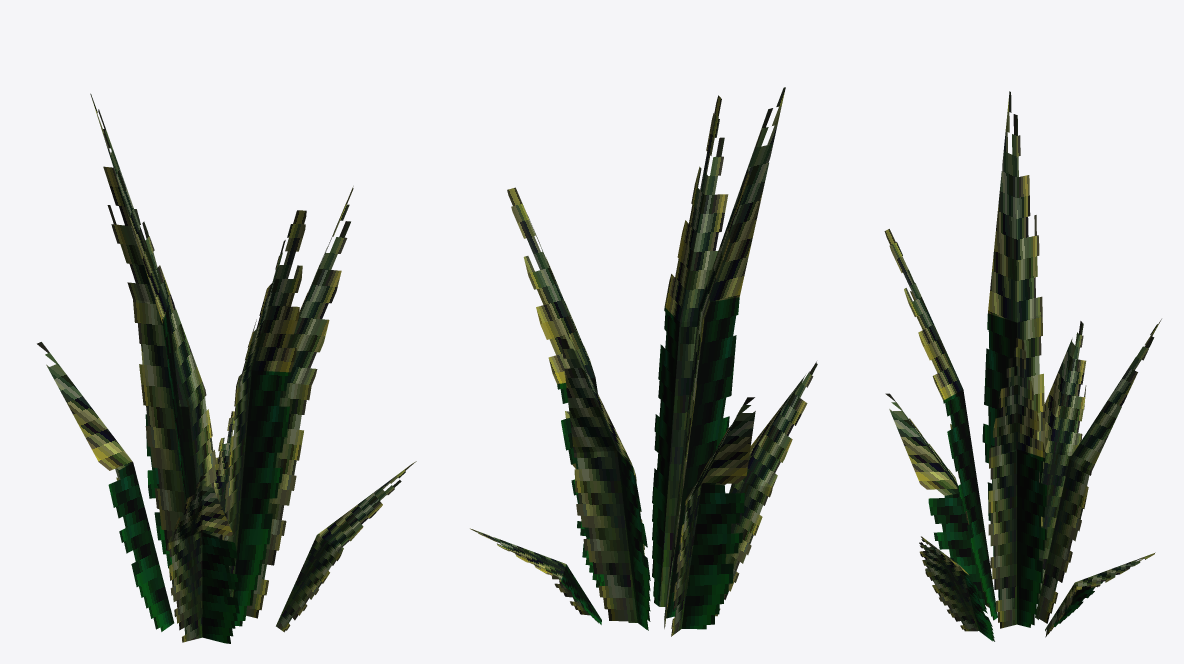
File: bush.glb
3 renders of one model, left to right at view 1: azimuth 30°, elevation 25°; view 2: azimuth 150°, elevation 25°; view 3: azimuth 270°, elevation 25°, orthographic. The views are drawn at different scales.
Parts seen in each view (by area): view 1: Object; view 2: Object; view 3: Object.
Part boxes in pixels (x1=…): Object: x1=37, y1=93, x2=416, y2=643; Object: x1=470, y1=87, x2=817, y2=636; Object: x1=884, y1=91, x2=1161, y2=641.
Bounding box in the file's own units: 1.86 × 3.61 × 1.86.
Materials: 2 (2 with a texture image).
